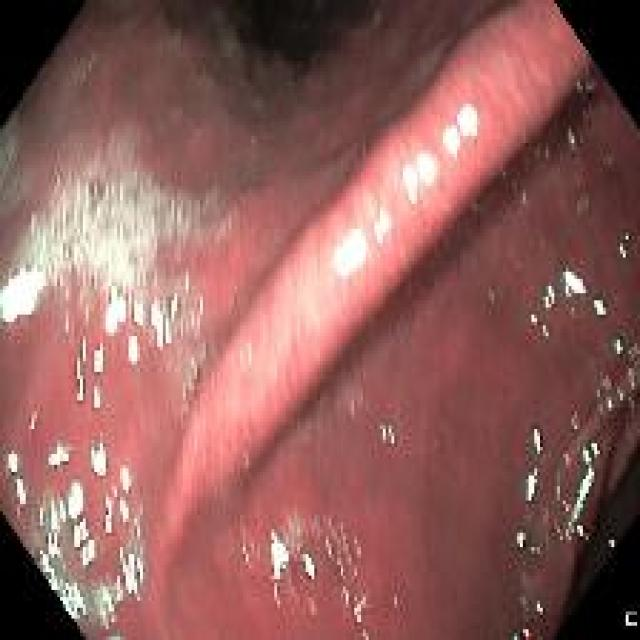blur: (17, 42, 633, 612)
bubbles: (18, 145, 237, 308), (167, 277, 206, 394)
contrast: (201, 7, 352, 68)
specularity: (562, 465, 599, 538), (2, 268, 50, 320), (39, 496, 60, 568), (266, 533, 293, 586), (60, 581, 89, 626), (122, 551, 147, 603), (337, 232, 367, 275), (71, 525, 97, 567), (93, 581, 123, 616), (561, 269, 590, 305), (153, 297, 174, 346), (441, 125, 466, 162), (104, 286, 124, 332), (42, 554, 62, 592), (66, 483, 85, 523), (455, 104, 478, 137), (417, 154, 438, 189), (403, 164, 421, 201), (93, 444, 109, 477), (371, 213, 388, 239), (532, 428, 546, 458), (525, 468, 538, 500), (47, 448, 69, 466), (306, 553, 319, 582), (540, 285, 556, 308), (127, 333, 140, 360), (92, 346, 105, 372), (531, 597, 546, 618), (336, 521, 348, 547), (353, 593, 371, 610), (242, 545, 253, 572), (24, 411, 37, 433), (590, 443, 603, 464), (18, 474, 26, 508), (323, 538, 334, 562), (379, 420, 390, 444), (8, 449, 18, 474), (94, 384, 103, 411), (132, 516, 142, 540), (352, 538, 364, 558), (582, 449, 594, 468), (79, 338, 88, 363), (132, 300, 143, 320), (120, 502, 130, 524), (388, 429, 398, 451), (122, 467, 132, 488), (78, 376, 85, 406), (517, 532, 527, 553), (327, 516, 336, 538), (614, 339, 623, 360), (597, 297, 607, 315), (74, 360, 82, 382), (336, 561, 344, 583), (528, 315, 539, 331), (105, 494, 112, 517), (390, 594, 401, 608), (566, 132, 576, 147), (345, 587, 352, 608), (529, 544, 541, 556), (542, 327, 551, 343), (352, 608, 362, 622), (620, 243, 627, 261), (112, 486, 120, 501), (608, 537, 617, 550), (520, 628, 535, 635), (605, 398, 613, 411), (615, 389, 624, 400), (623, 230, 630, 243), (360, 631, 371, 638)
